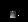person: (12, 8, 21, 18)
